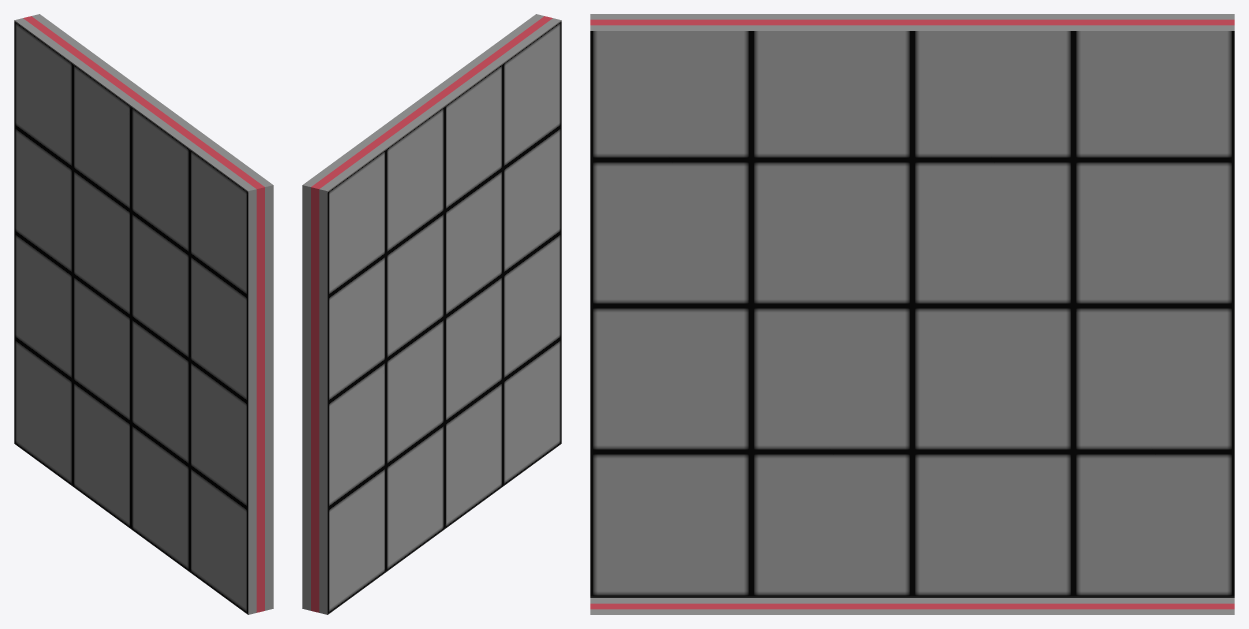
The model's file is concrete_panel.obj.
3 views of the same model, side by side, from view 1: azimuth 30°, elevation 25°; view 2: azimuth 150°, elevation 25°; view 3: azimuth 270°, elevation 25° (orthographic). The views are drawn at different scales.
Parts seen in each view (by area): view 1: extruded_conc_panel_0.mdl/extruded_conc_panel_0.smd; view 2: extruded_conc_panel_0.mdl/extruded_conc_panel_0.smd; view 3: extruded_conc_panel_0.mdl/extruded_conc_panel_0.smd.
Part boxes in pixels (bbox=[...]): extruded_conc_panel_0.mdl/extruded_conc_panel_0.smd: bbox=[14, 14, 273, 614]; extruded_conc_panel_0.mdl/extruded_conc_panel_0.smd: bbox=[302, 14, 561, 614]; extruded_conc_panel_0.mdl/extruded_conc_panel_0.smd: bbox=[590, 14, 1234, 614].
Size of the model in its own units: 0.125 by 2 by 2.
